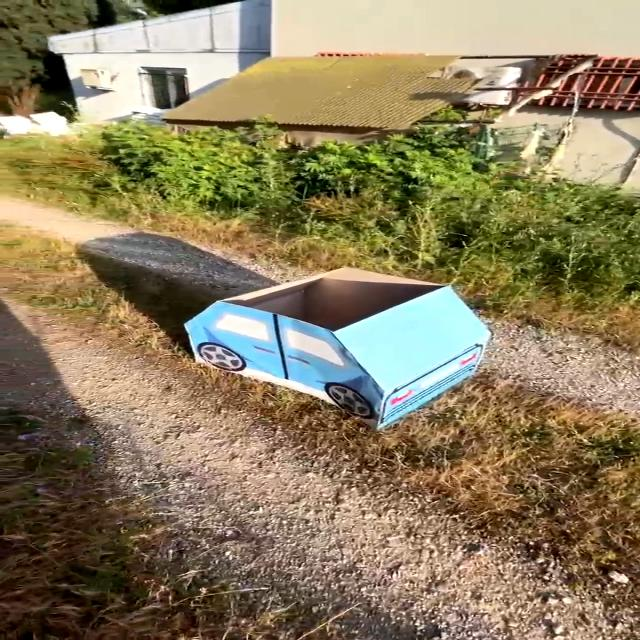blue_car: (148, 250, 519, 434)
